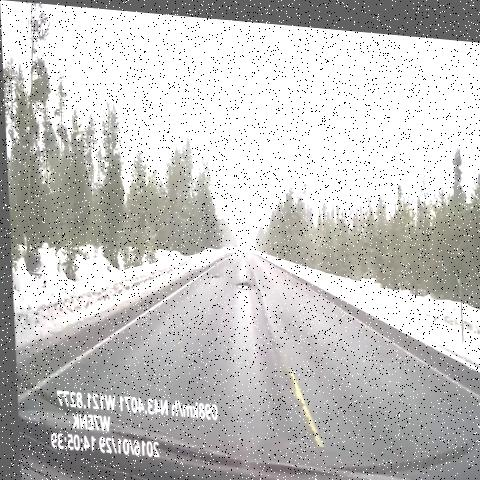pothole: (228, 266, 253, 291), (204, 263, 224, 284)
